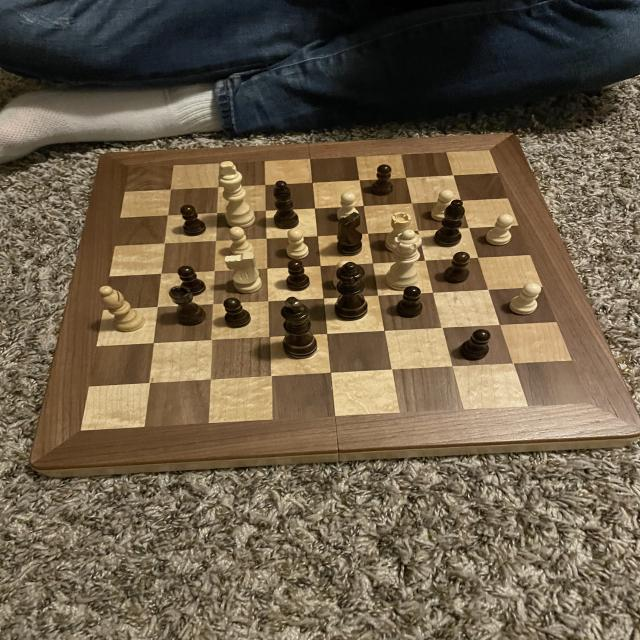bishop: (430, 197, 468, 249), (268, 177, 302, 231)
black-bishop: (276, 294, 323, 363)
black-king: (331, 210, 366, 259)
black-knight: (455, 325, 496, 363), (392, 284, 429, 320), (441, 250, 476, 287), (279, 256, 314, 293), (172, 262, 210, 296), (220, 297, 254, 332), (177, 204, 212, 238), (370, 163, 398, 197)
black-pawn: (330, 259, 373, 323)
black-queen: (165, 285, 211, 328)
black-rook: (97, 282, 150, 335)
white-bishop: (216, 158, 258, 231)
white-king: (222, 249, 264, 296)
white-knight: (506, 281, 545, 317), (481, 212, 518, 246), (281, 225, 312, 262), (428, 188, 458, 225), (225, 226, 255, 260), (330, 256, 356, 295), (335, 192, 363, 224)
white-pawn: (383, 228, 425, 294)
white-queen: (380, 210, 417, 253)
